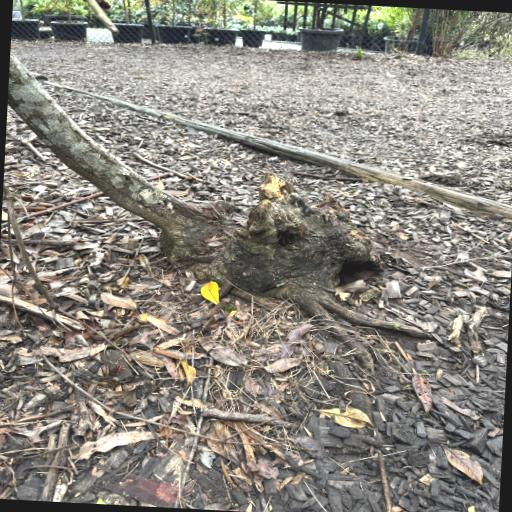tree root: (9, 52, 425, 373)
